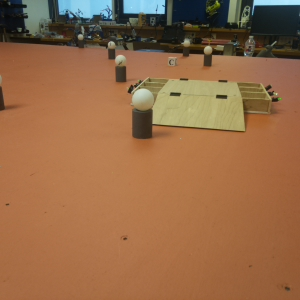blockC: (166, 58, 177, 67)
obstacle: (131, 91, 154, 135), (114, 57, 128, 84), (203, 46, 212, 67), (106, 41, 115, 58), (183, 40, 190, 57)
side: (242, 79, 279, 118)
slope: (154, 90, 247, 131)
